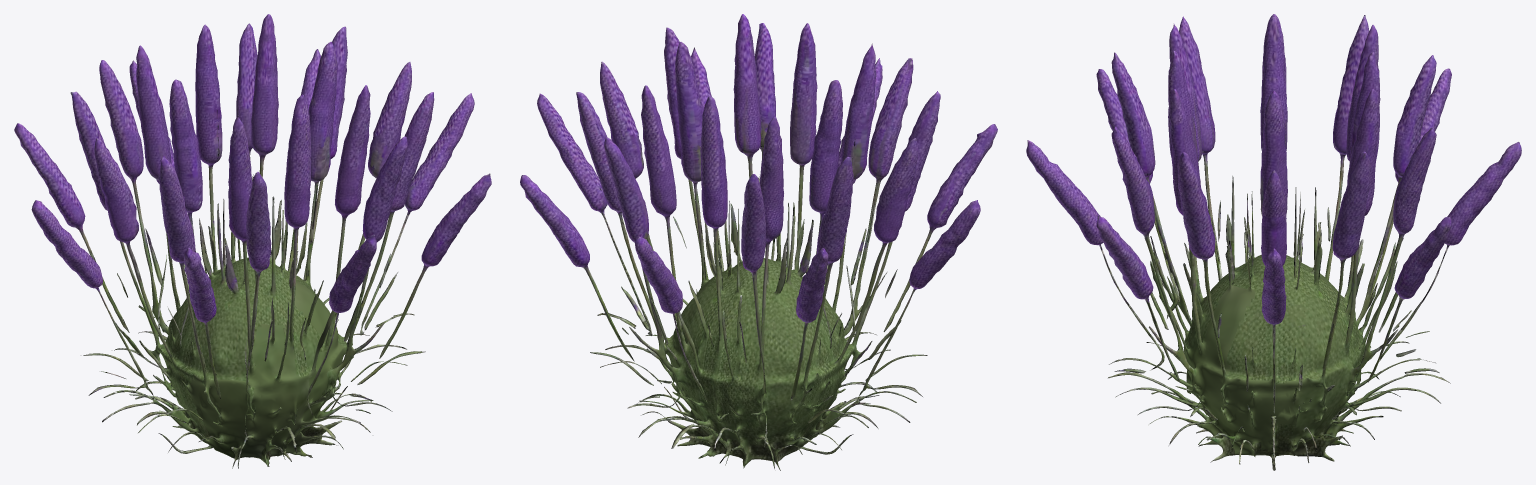
File: wildflower_lavender.glb
3 views of the same model, side by side, from view 1: azimuth 30°, elevation 25°; view 2: azimuth 150°, elevation 25°; view 3: azimuth 270°, elevation 25° (orthographic). The views are drawn at different scales.
Parts seen in each view (by area): view 1: model; view 2: model; view 3: model.
Boxes of the visible parts, bbox=[...] form: model: bbox=[14, 14, 491, 468]; model: bbox=[520, 14, 997, 470]; model: bbox=[1026, 14, 1521, 470].
Size of the model in its own units: 1.86 by 1.52 by 1.77.
1 material, 1 textured.
